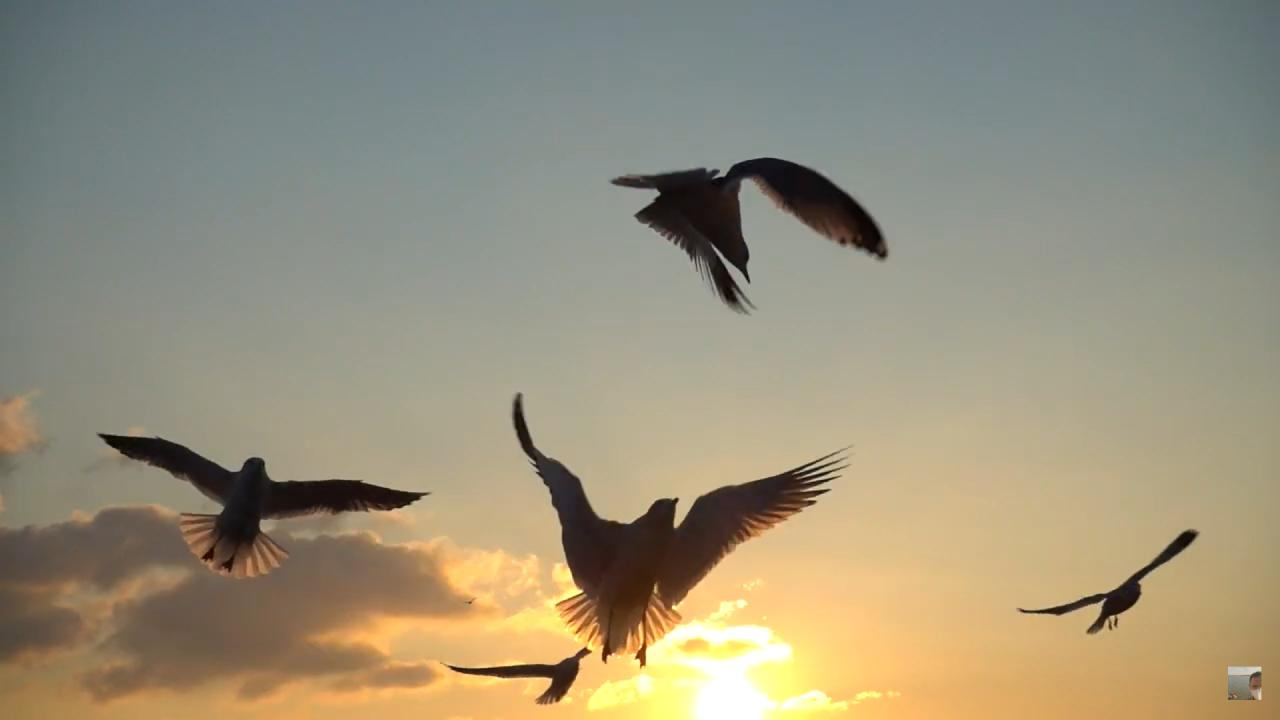Bird: (504, 382, 860, 676), (88, 421, 437, 591), (599, 144, 904, 320), (1011, 520, 1207, 650), (435, 644, 611, 710)
